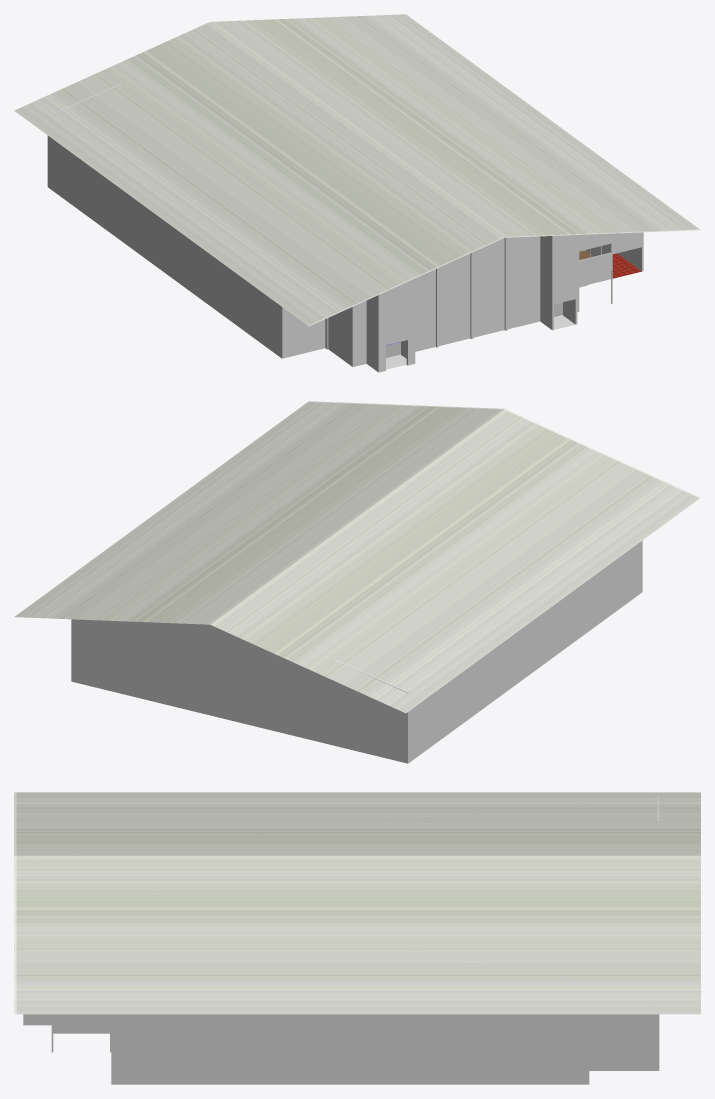
The model's file is Gimnasio.fbx.
3 renders of one model, top to bottom at view 1: azimuth 30°, elevation 25°; view 2: azimuth 150°, elevation 25°; view 3: azimuth 270°, elevation 25°, orthographic. The views are drawn at different scales.
Visible parts, largest first — view 1: Gimnasio; view 2: Gimnasio; view 3: Gimnasio.
Boxes of the visible parts, x1,y1,x2,y2 form: Gimnasio: (14,14,700,372); Gimnasio: (14,401,700,763); Gimnasio: (14,792,700,1084).
Bounding box in the file's own units: 3535 × 932 × 4607.
20 materials, 11 textured.
